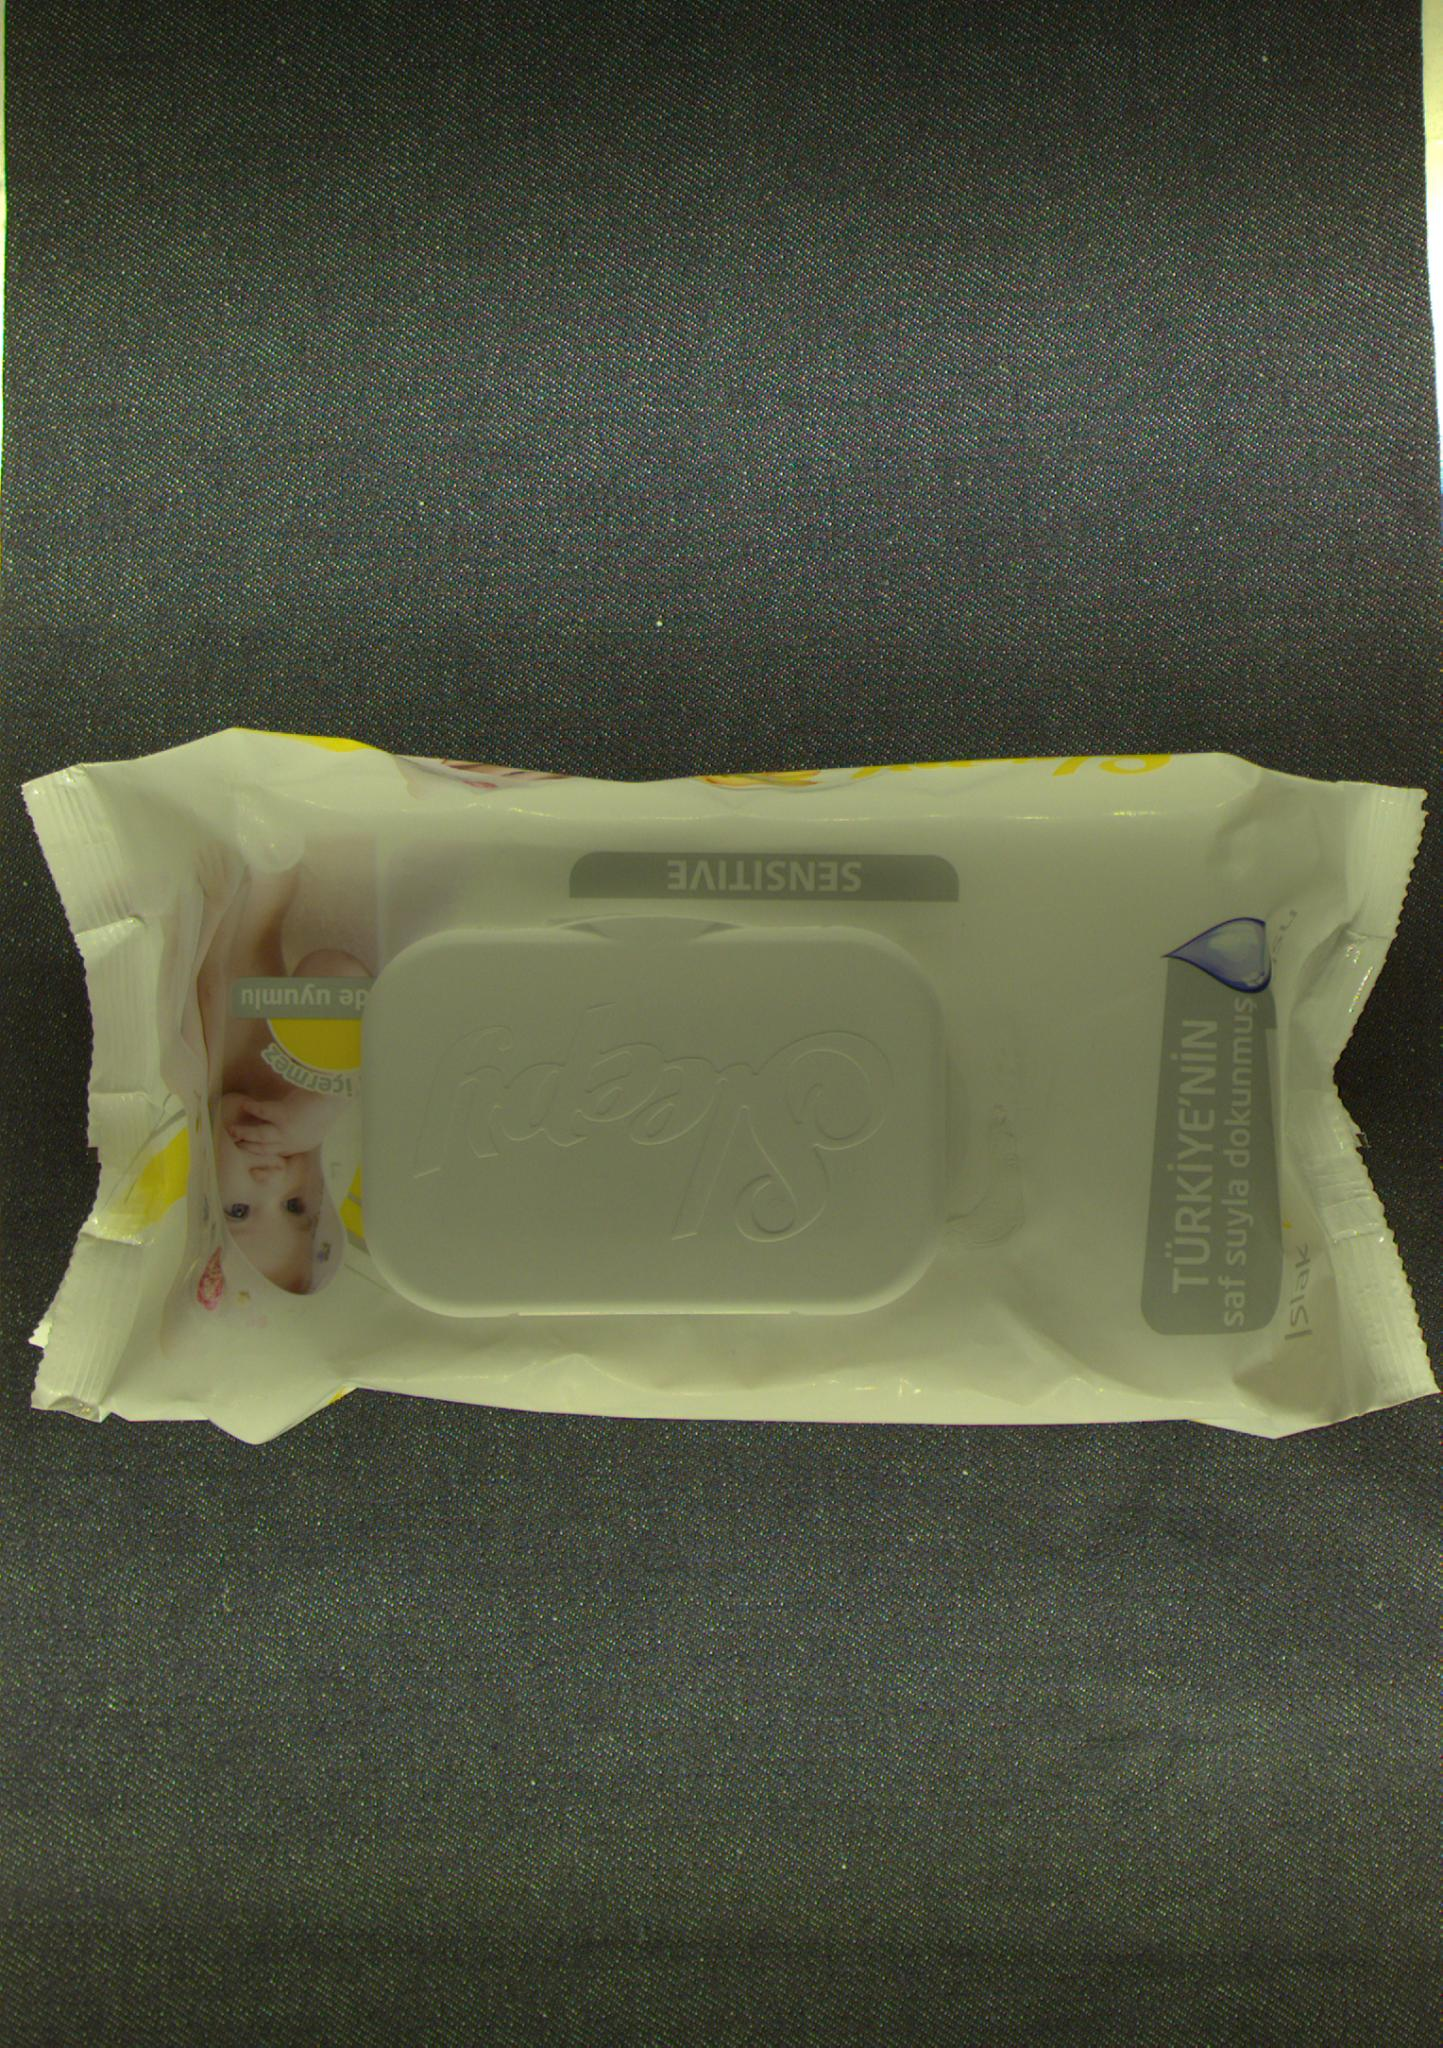kapak: (362, 916, 954, 1308)
